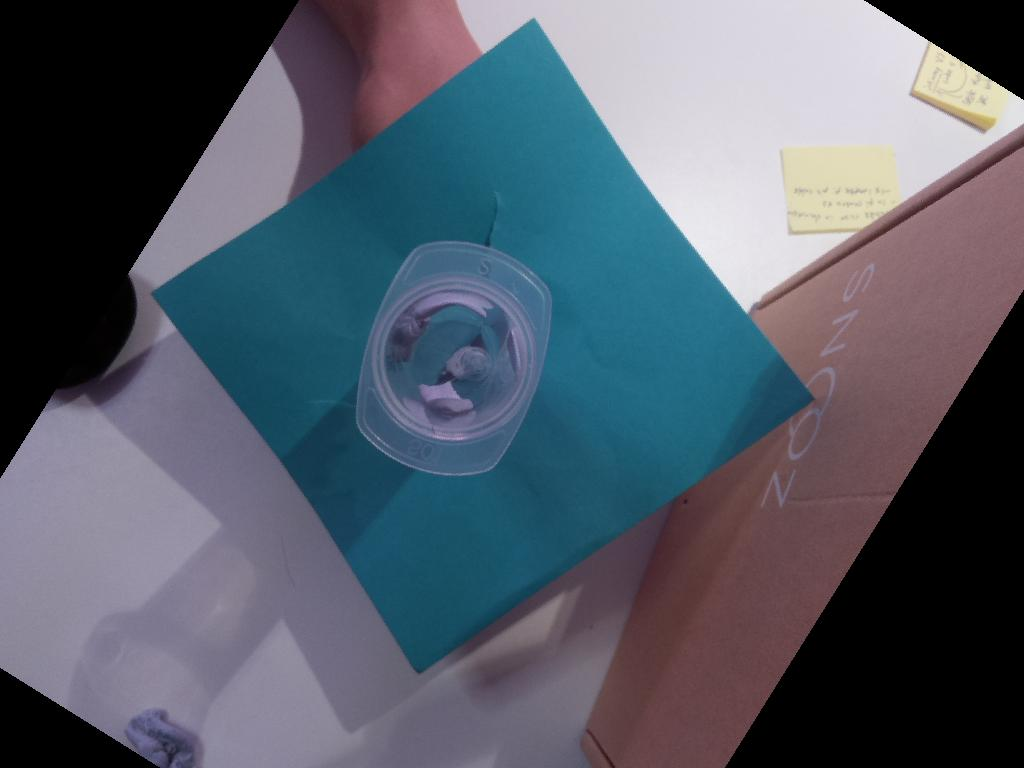dirty: (357, 240, 552, 477)
